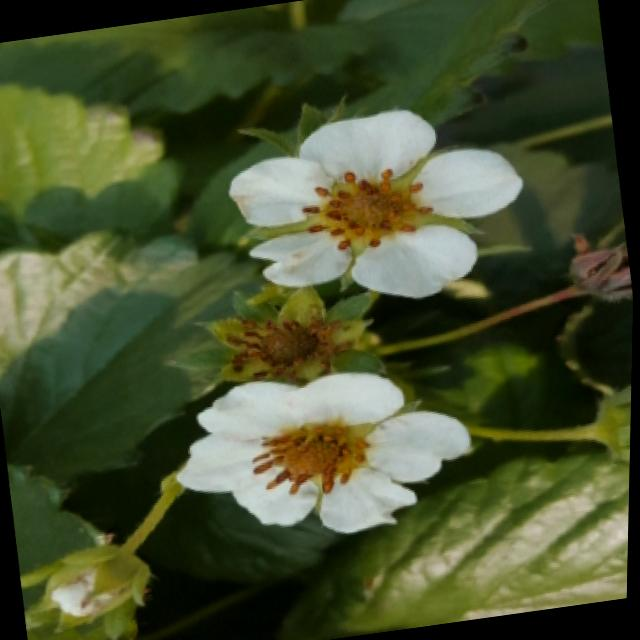Blossom Blight: (297, 159, 438, 260), (249, 415, 376, 496), (224, 310, 340, 378)
